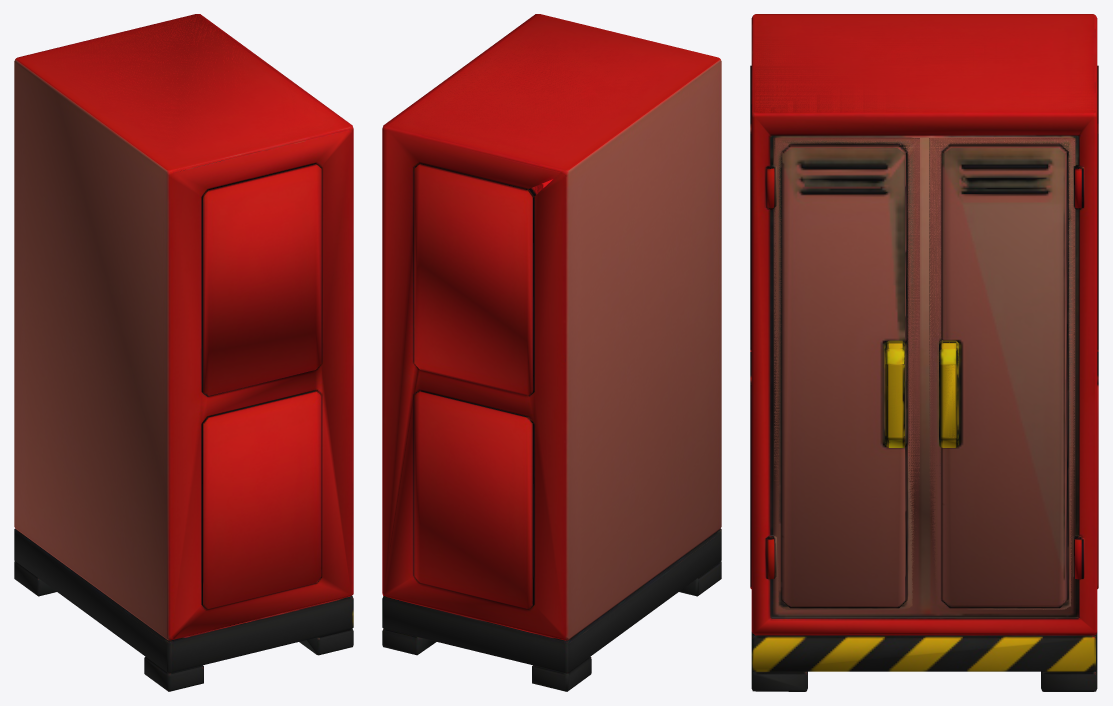
Rendered from cabinet.glb.
3 renders of one model, left to right at view 1: azimuth 30°, elevation 25°; view 2: azimuth 150°, elevation 25°; view 3: azimuth 270°, elevation 25°, orthographic. The views are drawn at different scales.
Parts seen in each view (by area): view 1: tripo_node_0f927599-44c8-4898-84b0-1ff8e8e79f71; view 2: tripo_node_0f927599-44c8-4898-84b0-1ff8e8e79f71; view 3: tripo_node_0f927599-44c8-4898-84b0-1ff8e8e79f71.
Part boxes in pixels (x1=…): tripo_node_0f927599-44c8-4898-84b0-1ff8e8e79f71: x1=14, y1=14, x2=353, y2=691; tripo_node_0f927599-44c8-4898-84b0-1ff8e8e79f71: x1=382, y1=14, x2=721, y2=691; tripo_node_0f927599-44c8-4898-84b0-1ff8e8e79f71: x1=750, y1=14, x2=1098, y2=691.
Size of the model in its own units: 0.818 by 2 by 1.09.
Materials: 1 (1 with a texture image).
